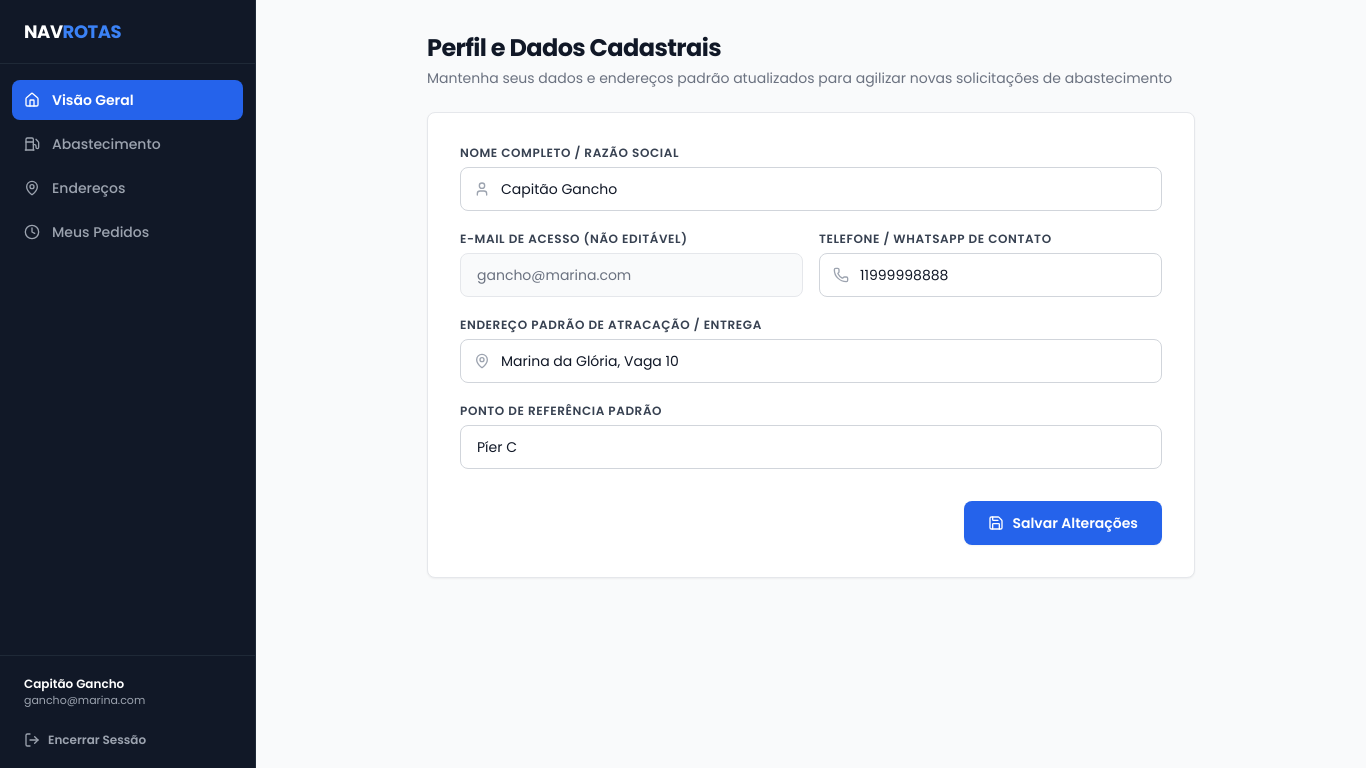
Test case: PerfilPage › exibe mensagem de erro e não emite mensagem de sucesso quando a API falha (FE-01)
The width and height of the screenshot is (1366, 768).
What coordinates should you click on to do the following:
click the button "Salvar Alterações"
I would click on:
 (1063, 523)
Its box is [964,501,1162,545].
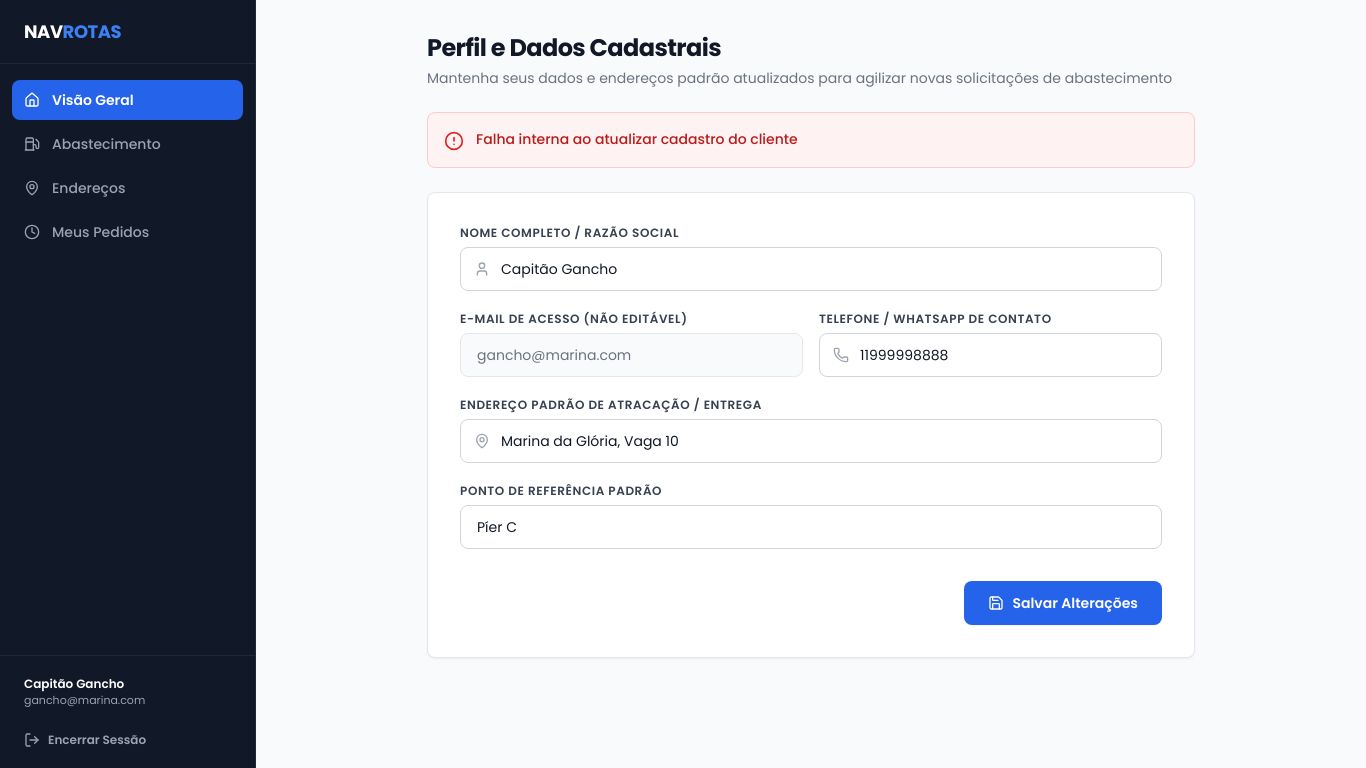
Expected: the text "Falha interna ao atualizar cadastro do cliente" is shown, [476,129,798,149]
